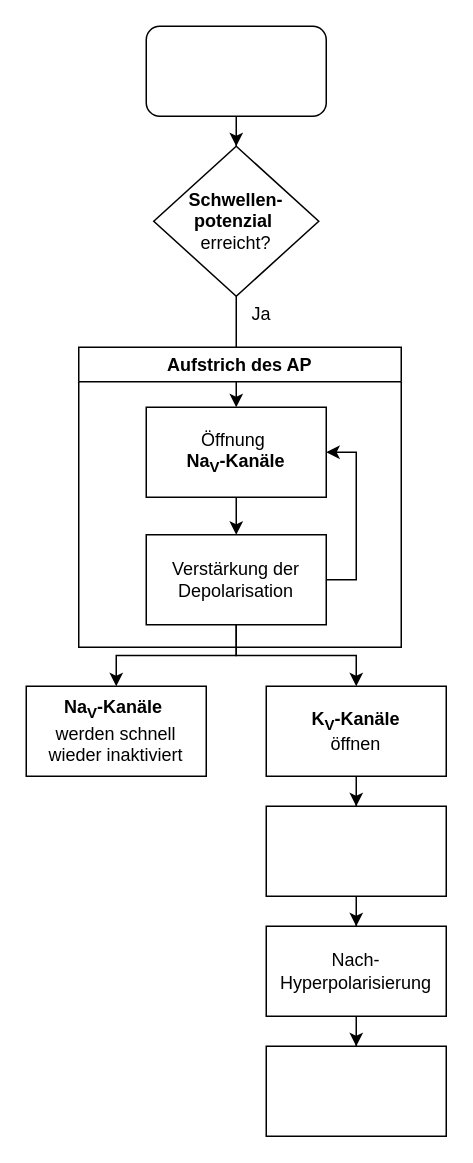
This 473x1163 diagram has some shape labels left out. The shapes that lost their labels are listed below. From the top down, each one's centre as x and y in pixels, then its label:
the point at 235,70: Depolarisation erreicht Axonhügel
the point at 355,850: Repolarisierung
the point at 355,1090: Alle Kanäle schließen
